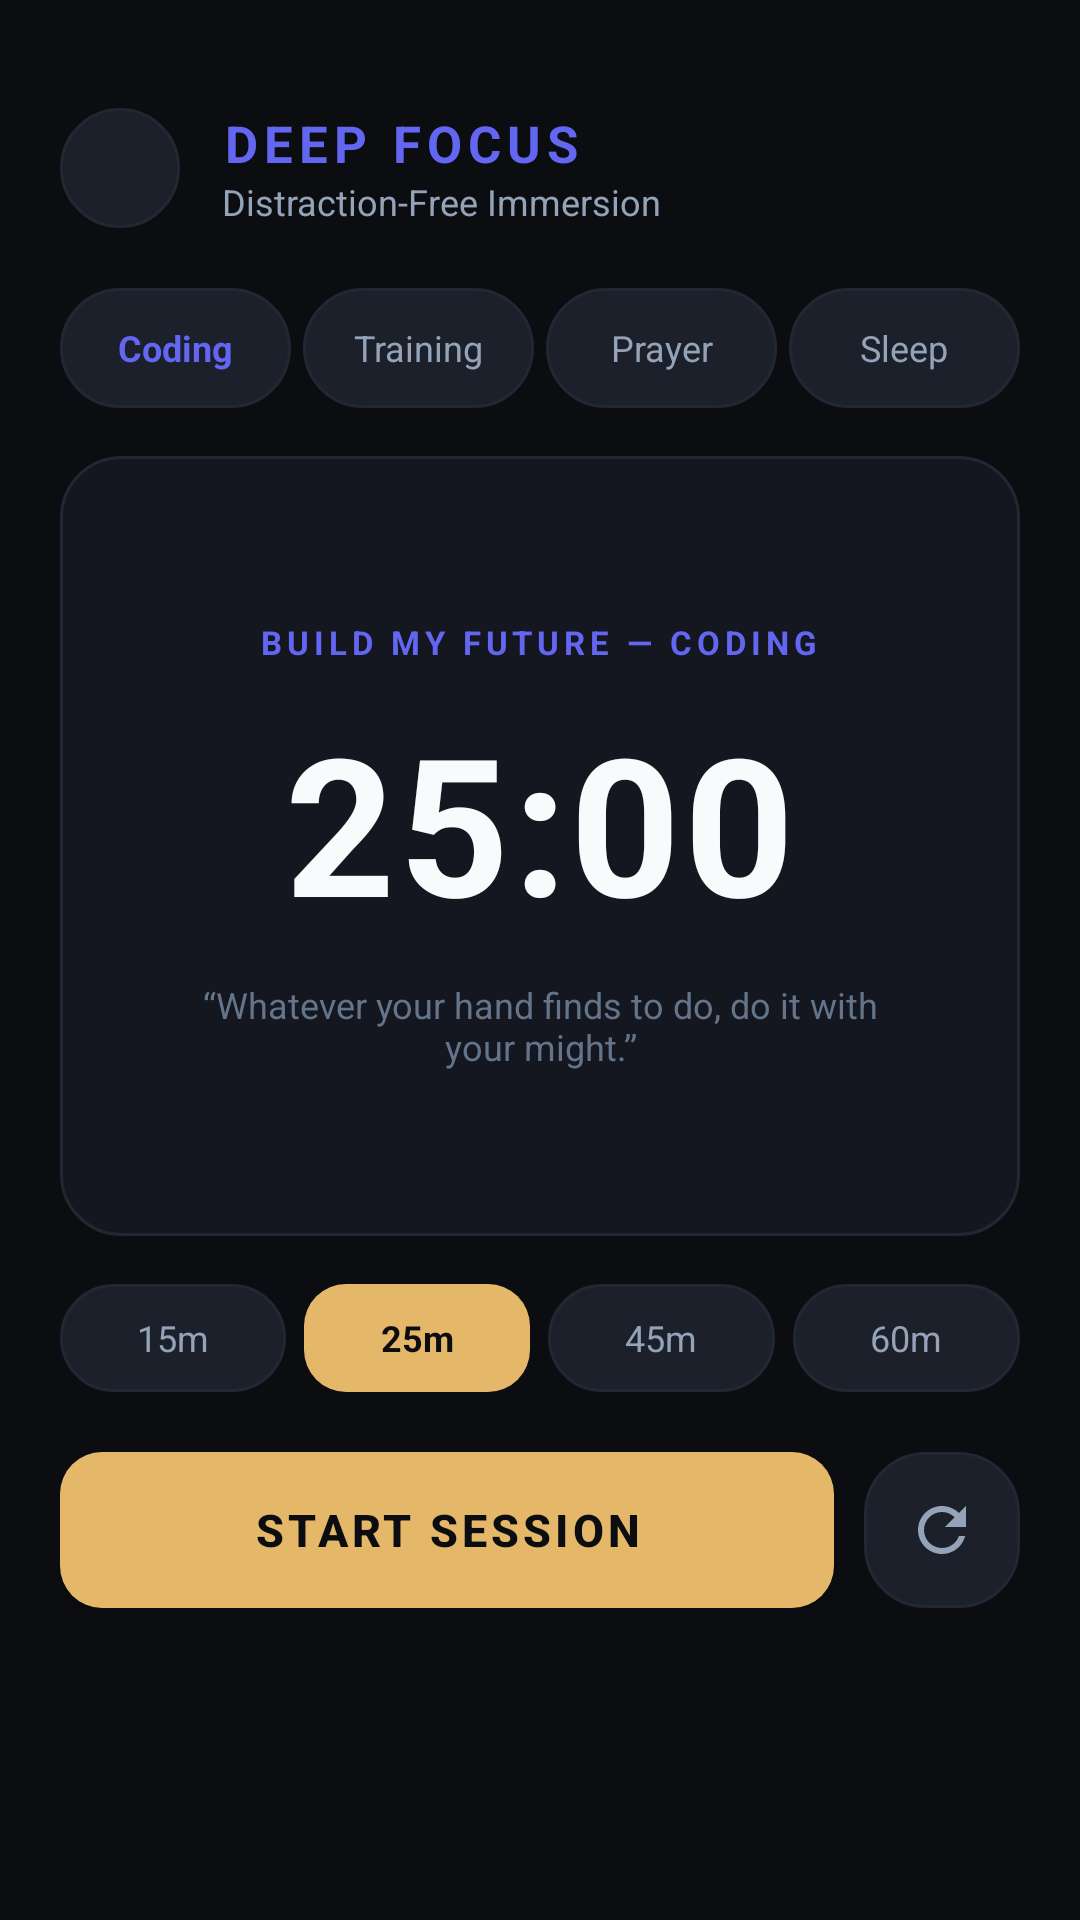

Icons on this 1080 x 1920 Android screen, each with its box as (x1, y1, x2, y2):
Reset: (864, 1452, 1020, 1608)
